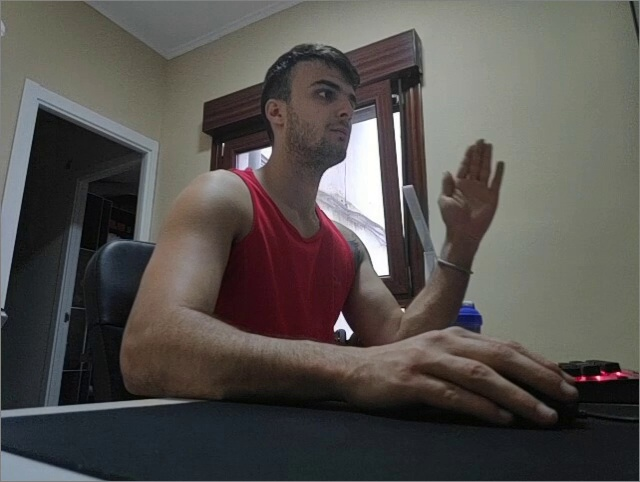Palm: (437, 137, 506, 241)
